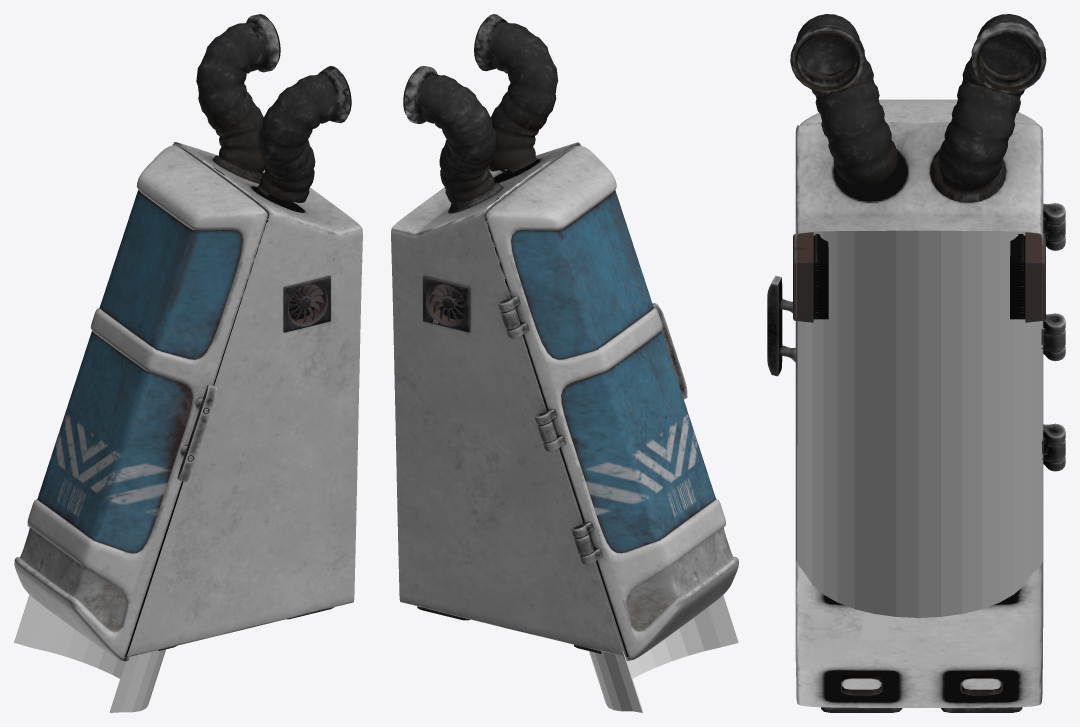
Rendered from Cryo.gltf.
3 renders of one model, left to right at view 1: azimuth 30°, elevation 25°; view 2: azimuth 150°, elevation 25°; view 3: azimuth 270°, elevation 25°, orthographic. The views are drawn at different scales.
Visible parts, largest first — view 1: Chaber, Door, Bed; view 2: Chaber, Door, Bed; view 3: Bed, Chaber, Door.
Part boxes in pixels (x1,y1,x2,y2): Chaber: [124, 14, 362, 657]; Door: [14, 145, 269, 661]; Bed: [14, 161, 269, 712]; Chaber: [391, 14, 628, 657]; Door: [484, 145, 738, 661]; Bed: [484, 161, 738, 712]; Bed: [797, 137, 1043, 617]; Chaber: [790, 14, 1047, 712]; Door: [767, 99, 1065, 561].
Bounding box in the file's own units: 2.95 × 6.24 × 2.18.
Materials: 2 (1 with a texture image).
